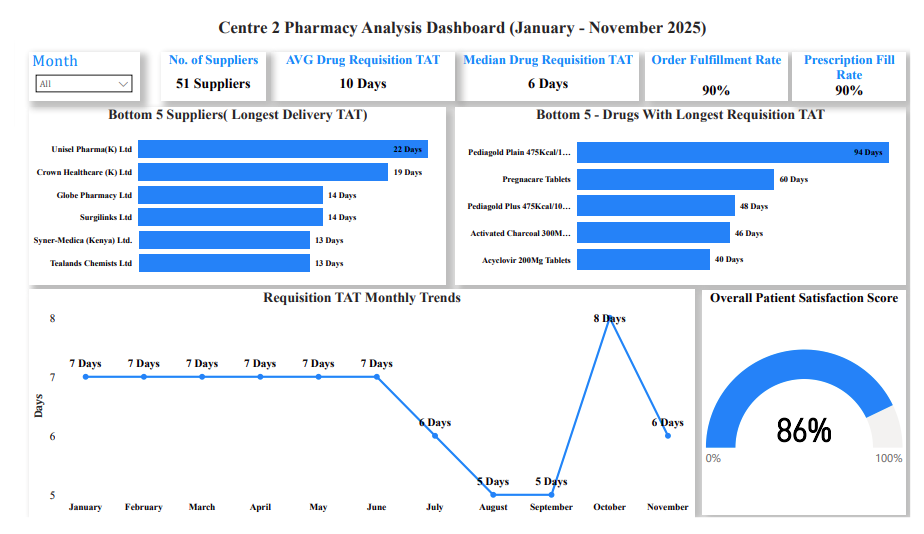

The page's visual inventory and layout, read from the dashboard file:
{"tool":"powerbi","page":{"name":"CENTRE 2","canvas":[1280,720],"ordinal":1},"visuals":[{"type":"card","title":"Median Drug Requisition TAT","fields":{"Values":["MASTER MAIN.Median Days Main Drug Requisition TAT"]},"box":[633.2,52.5,258.7,70],"z":0},{"type":"card","title":"AVG Drug Requisition TAT","fields":{"Values":["MASTER MAIN.Days Main Drug Requisition TAT"]},"box":[366.7,52.5,262.6,70],"z":1000},{"type":"card","title":"No. of Suppliers","fields":{"Values":["MASTER MAIN.Main No of Suppliers"]},"box":[209.1,52.5,149.8,70],"z":2000},{"type":"card","title":" Order Fulfillment Rate ","fields":{"Values":["Avg(MASTER MAIN.Order Fulfillment rate)"]},"box":[900.7,52.5,204.3,70],"z":3000},{"type":"textbox","box":[0,0,1280,40],"z":4000},{"type":"clusteredBarChart","title":"Bottom 5 Suppliers( Longest Delivery TAT)","fields":{"Category":["MASTER MAIN.Supplier"],"Y":["MASTER MAIN.Median Main Drug Requisition TAT"]},"box":[20.7,132,596.5,254.5],"z":5000},{"type":"clusteredBarChart","title":"Bottom 5 -  Drugs With Longest Requisition TAT ","fields":{"Category":["MASTER MAIN.ItemName"],"Y":["MASTER MAIN.Median Main Drug Requisition TAT"]},"box":[629.9,132,644.2,254.5],"z":6000},{"type":"lineChart","title":"Requisition TAT  Monthly Trends","fields":{"Category":["MASTER MAIN.GRNDate.Variation.Date Hierarchy.Month"],"Y":["MASTER MAIN.Median Main Drug Requisition TAT"]},"box":[20.7,394.5,951.2,326.1],"z":7000},{"type":"slicer","title":"Month","fields":{"Values":["MASTER MAIN.GRNDate.Variation.Date Hierarchy.Month"]},"box":[20.4,52.5,157.6,70],"z":8000},{"type":"card","title":"Prescription Fill Rate","fields":{"Values":["SURVEY.sPrescription Fill Rate"]},"box":[1111.7,52.5,162.4,70],"z":9000},{"type":"gauge","title":"Overall Patient Satisfaction Score","fields":{"Y":["SURVEY.Average overall satisfaction"]},"box":[983,394.5,291.1,321.3],"z":10000}]}

Visuals, with their boxes in screenshot pixels (x1, y1, x2, y2), scaled from the page's 1280x720 canvas onto the 924x534 screenshot:
"Median Drug Requisition TAT" card: region(457, 39, 644, 91)
"AVG Drug Requisition TAT" card: region(265, 39, 454, 91)
"No. of Suppliers" card: region(151, 39, 259, 91)
" Order Fulfillment Rate " card: region(650, 39, 798, 91)
textbox: region(0, 0, 923, 30)
"Bottom 5 Suppliers( Longest Delivery TAT)" clusteredBarChart: region(15, 98, 446, 287)
"Bottom 5 -  Drugs With Longest Requisition TAT " clusteredBarChart: region(455, 98, 920, 287)
"Requisition TAT  Monthly Trends" lineChart: region(15, 293, 702, 533)
"Month" slicer: region(15, 39, 128, 91)
"Prescription Fill Rate" card: region(803, 39, 920, 91)
"Overall Patient Satisfaction Score" gauge: region(710, 293, 920, 531)
